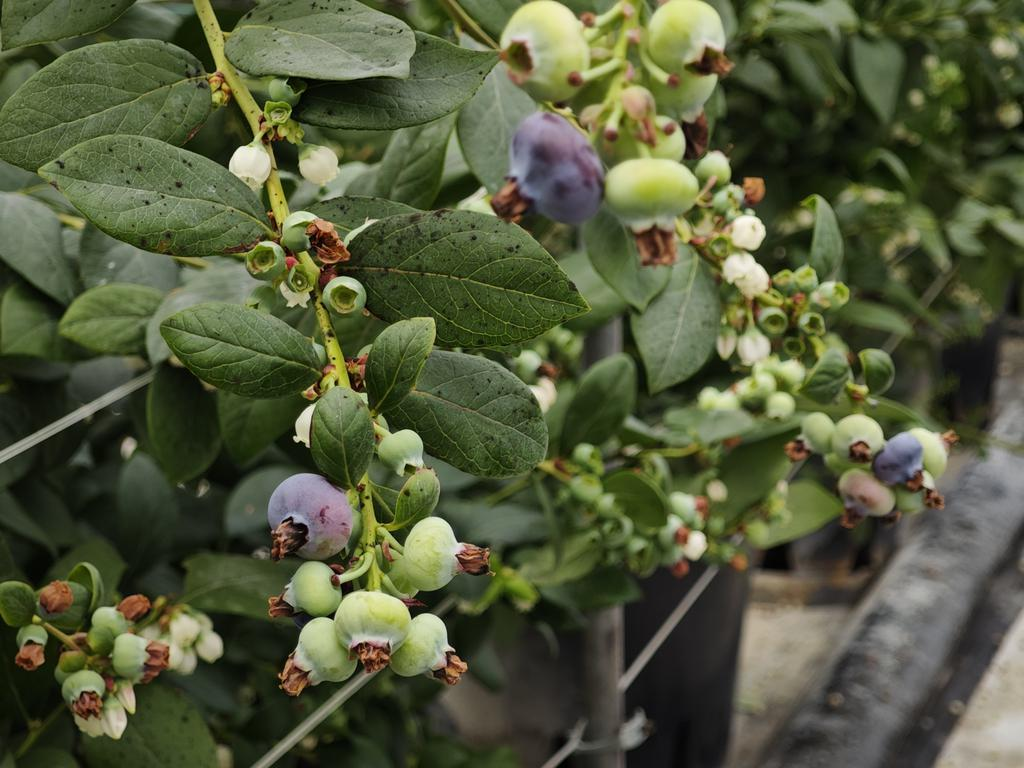RipeBlueBerry: (509, 110, 608, 229), (874, 430, 926, 487)
Semi-RipeBlueBerry: (264, 469, 355, 562)
UnripeBlueBerry: (497, 0, 592, 104), (604, 156, 702, 241), (335, 589, 414, 667)
